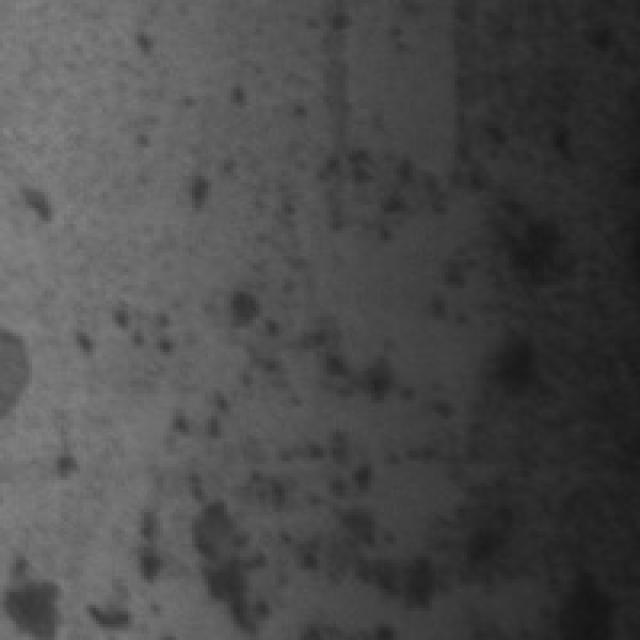pitted_surface: (48, 268, 458, 618), (157, 7, 563, 324)
